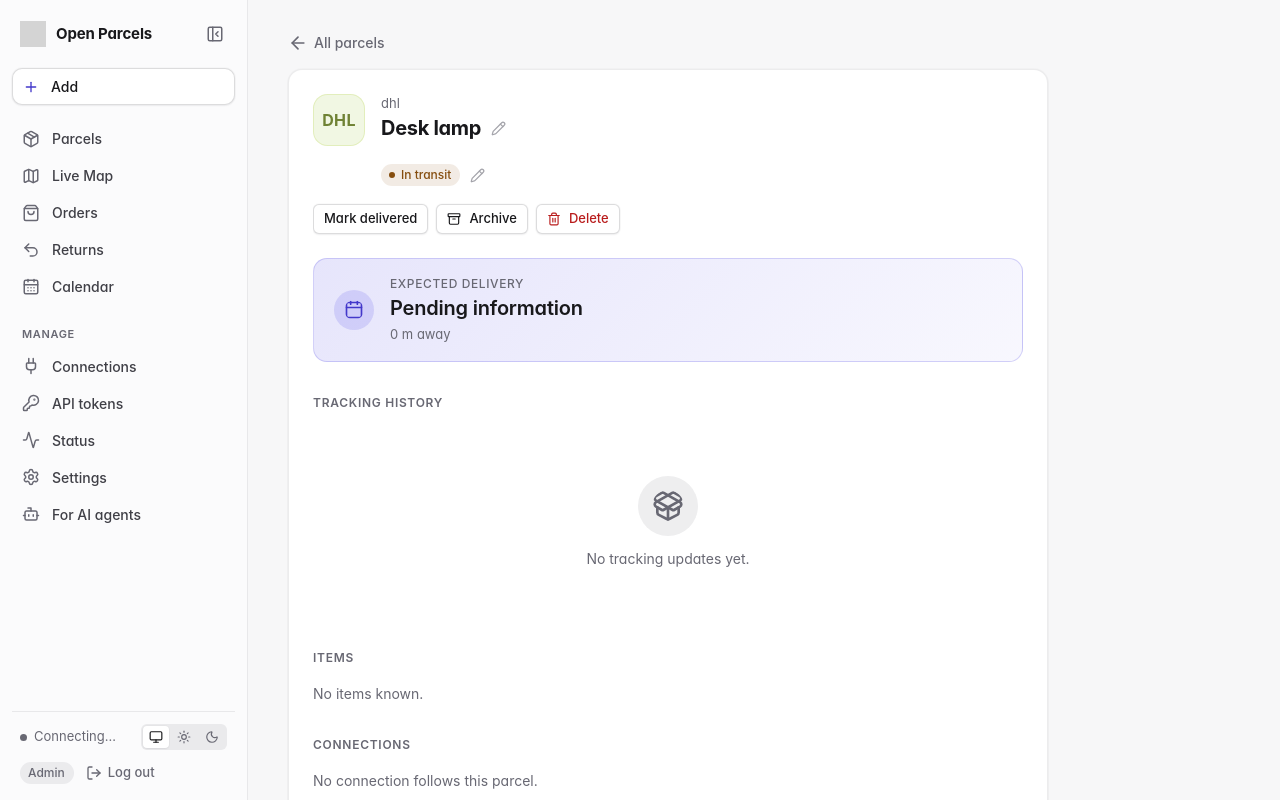
Test: editing a parcel in place › says why Mark delivered was refused and shows the server's state again (OP-148)
The width and height of the screenshot is (1280, 800).
Click the button "Mark delivered" at coordinates (371, 219), box [313,204,428,234]
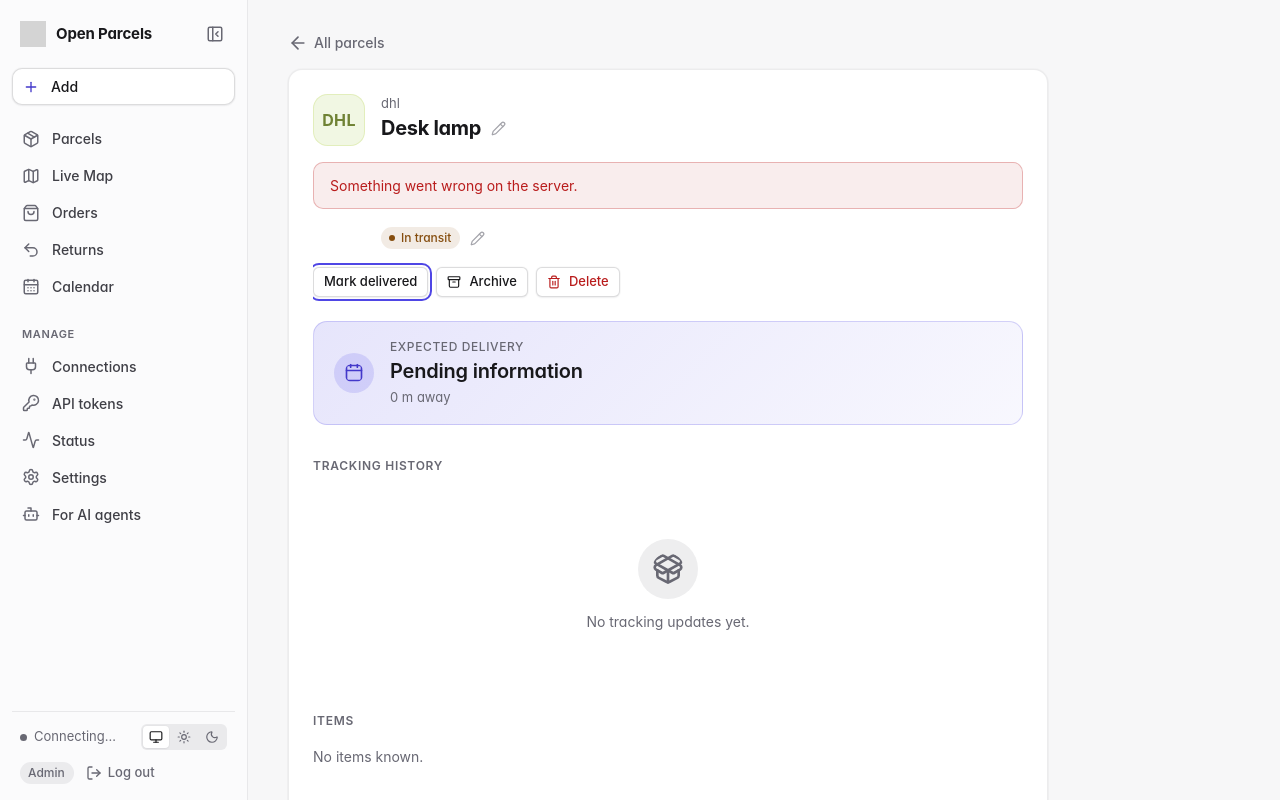
Result: the text "Something went wrong on the server." is shown at [313,162,1023,209]
